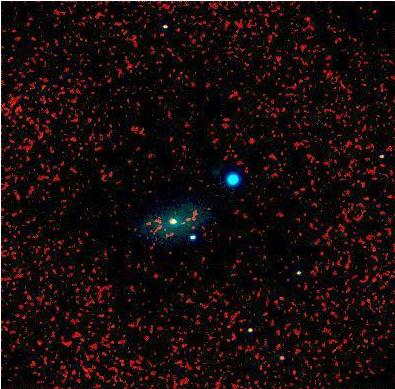star: (179, 211, 209, 241)
